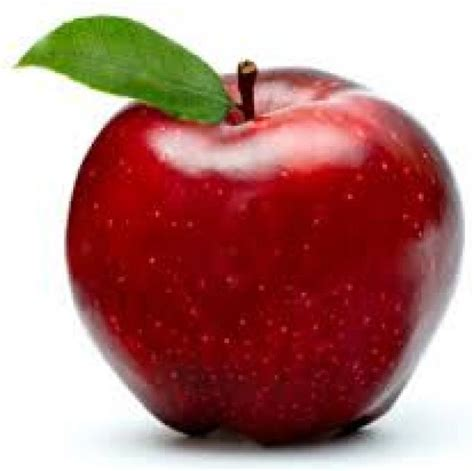apple: (61, 67, 467, 448)
